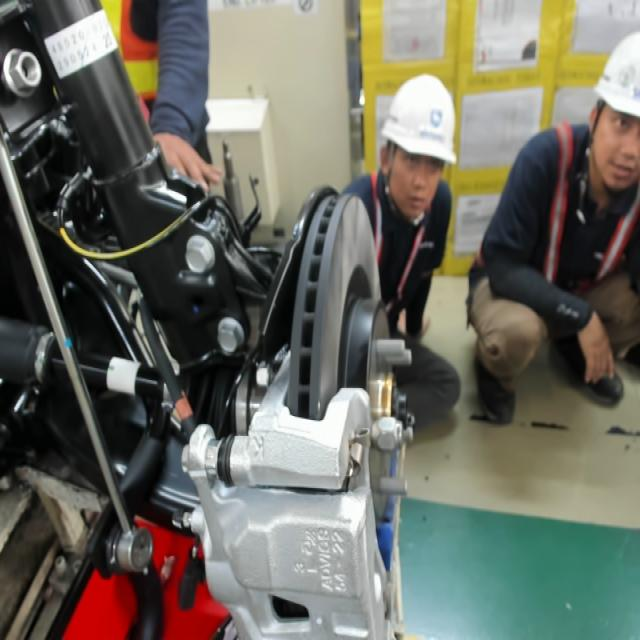Disc-HT: (338, 259, 397, 465)
Drive Shaft-PT: (105, 350, 144, 396)
